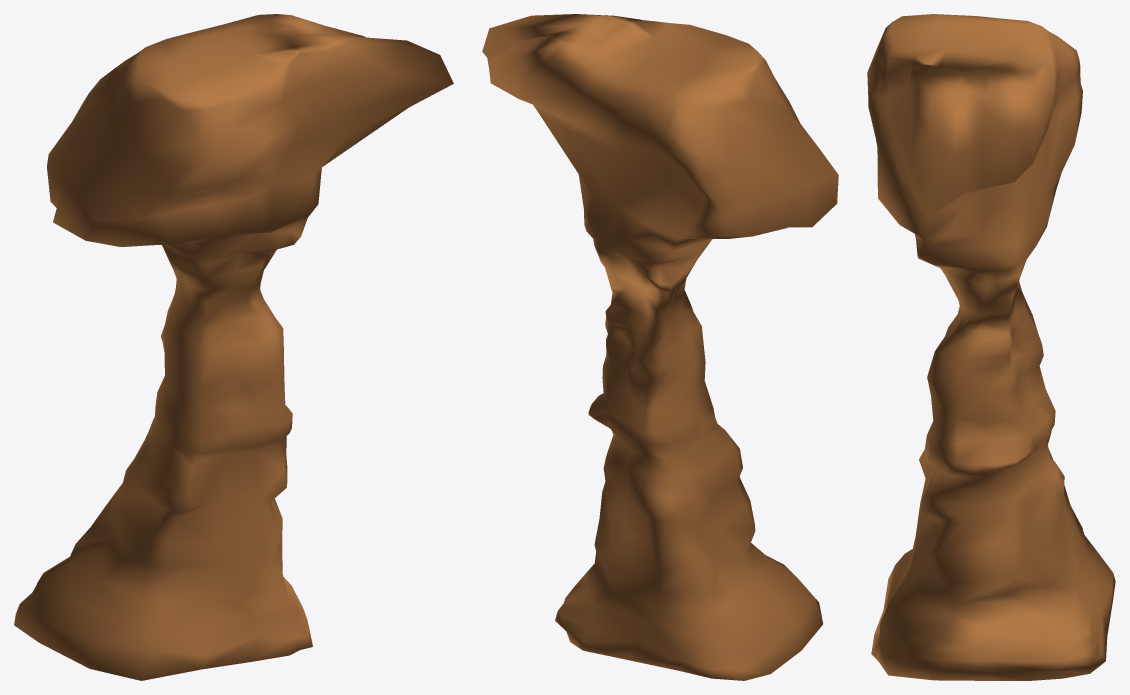
The model's file is MSH_Rocks_Cliff_19_c.FBX.
3 renders of one model, left to right at view 1: azimuth 30°, elevation 25°; view 2: azimuth 150°, elevation 25°; view 3: azimuth 270°, elevation 25°, orthographic. The views are drawn at different scales.
Visible parts, largest first — view 1: MESH_LOD0; view 2: MESH_LOD0; view 3: MESH_LOD0.
Part boxes in pixels (<box>): MESH_LOD0: <box>14,14,453,680</box>; MESH_LOD0: <box>482,14,838,680</box>; MESH_LOD0: <box>867,14,1115,680</box>.
Size of what is drawn, in the model's own units: 241 by 363 by 132.
